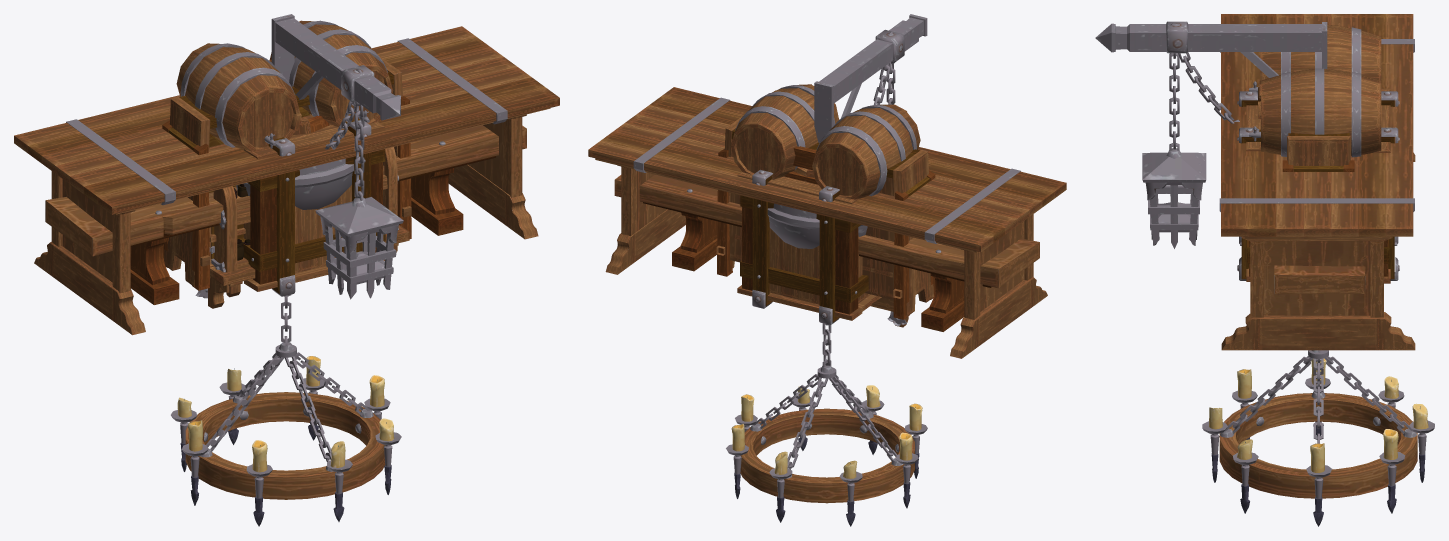
The model's file is props.glb.
3 views of the same model, side by side, from view 1: azimuth 30°, elevation 25°; view 2: azimuth 150°, elevation 25°; view 3: azimuth 270°, elevation 25° (orthographic). The views are drawn at different scales.
Parts seen in each view (by area): view 1: Table_Large, Chandelier, Barrel_Holder, Bench, Lantern_Wall, Crate_Wooden, Cabinet, Shelf_Small_Bottles, Cauldron, Shelf_Simple; view 2: Table_Large, Barrel_Holder, Chandelier, Crate_Wooden, Bench, Lantern_Wall, Cabinet, Cauldron, Chair_1; view 3: Table_Large, Chandelier, Barrel_Holder, Lantern_Wall, Crate_Wooden, Bench, Cabinet.
Part boxes in pixels (x1,y1,x2,y2): Table_Large: (14, 26, 559, 335); Chandelier: (171, 294, 401, 526); Barrel_Holder: (162, 20, 411, 290); Bench: (45, 125, 526, 304); Lantern_Wall: (271, 14, 403, 299); Crate_Wooden: (237, 119, 385, 296); Cabinet: (164, 55, 402, 286); Shelf_Small_Bottles: (210, 147, 398, 292); Cauldron: (236, 158, 353, 209); Shelf_Simple: (208, 225, 409, 308); Table_Large: (588, 87, 1066, 358); Barrel_Holder: (716, 84, 935, 319); Chandelier: (726, 323, 927, 526); Crate_Wooden: (737, 169, 881, 324); Bench: (614, 174, 1039, 331); Lantern_Wall: (814, 14, 927, 142); Cabinet: (724, 115, 933, 316); Cauldron: (767, 203, 867, 248); Chair_1: (784, 146, 817, 184); Table_Large: (1219, 14, 1415, 350); Chandelier: (1202, 350, 1434, 526); Barrel_Holder: (1249, 24, 1381, 171); Lantern_Wall: (1095, 21, 1327, 248); Crate_Wooden: (1237, 88, 1399, 283); Bench: (1274, 265, 1365, 293); Cabinet: (1287, 133, 1350, 169).
Bounding box in the file's own units: 2.85 × 2.84 × 1.9.
Materials: 3 (3 with a texture image).
